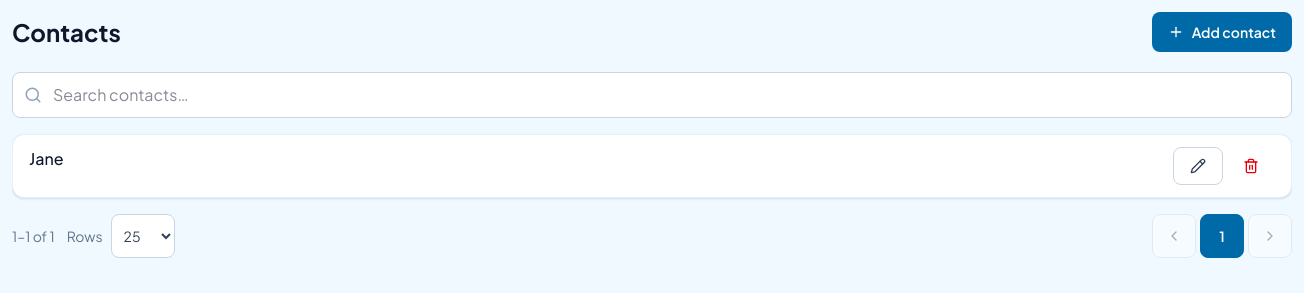
Test case: delete removes a contact
Click the button named "delete jane" at (1251, 166), box [1227,148,1275,184]
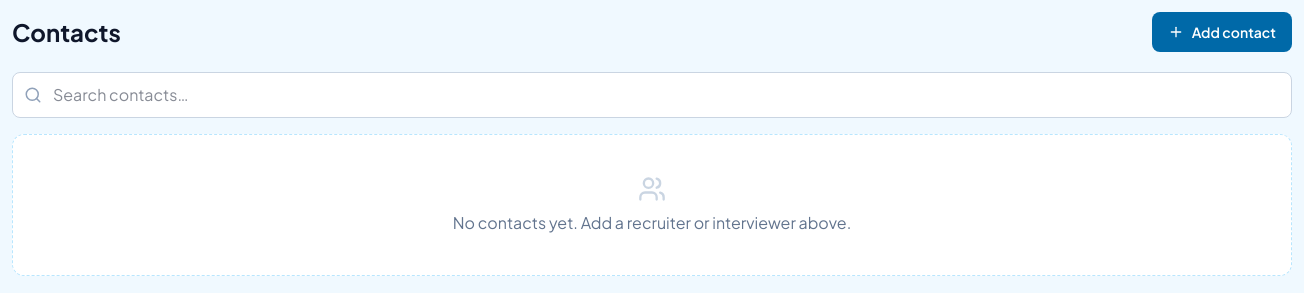
Expected: the text "Jane" is gone
